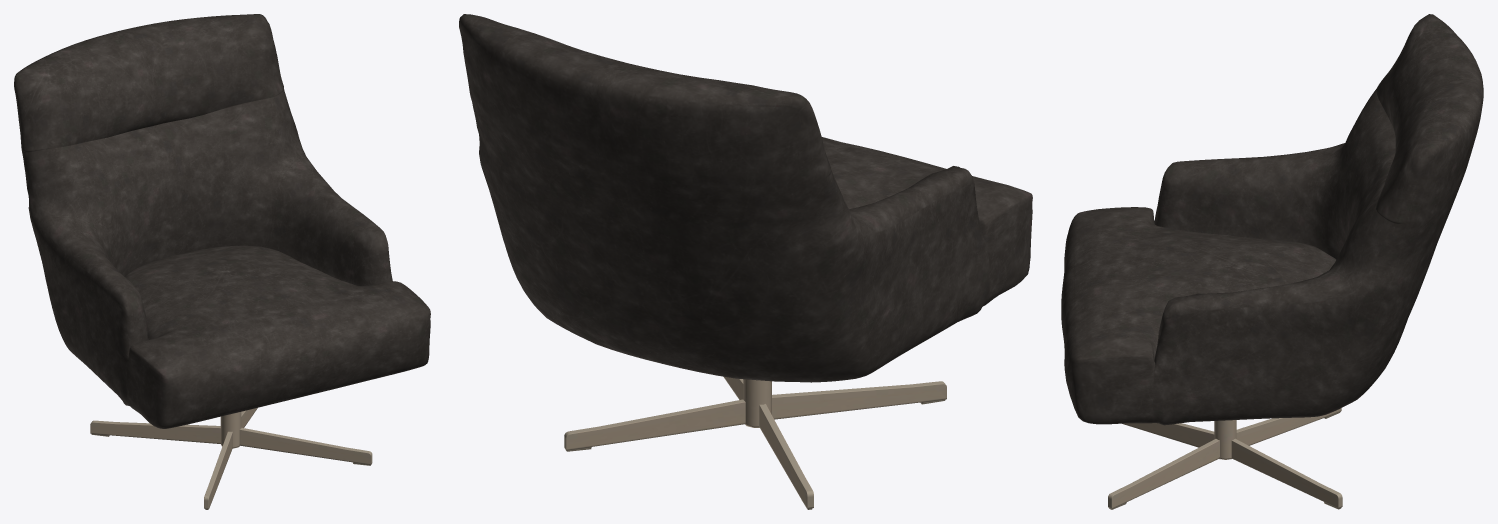
The model's file is office_chair_B075X4PTQV.glb.
The picture shows the model from 3 angles, left to right: view 1: azimuth 30°, elevation 25°; view 2: azimuth 150°, elevation 25°; view 3: azimuth 270°, elevation 25°; orthographic projection. The views are drawn at different scales.
Parts seen in each view (by area): view 1: RootNode; view 2: RootNode; view 3: RootNode.
Part boxes in pixels (box(x1,y1,x2,y2)): RootNode: box(14, 14, 430, 509); RootNode: box(459, 14, 1032, 509); RootNode: box(1061, 14, 1483, 509).
Size of the model in its own units: 0.7379 by 0.8695 by 0.8745.
Materials: 1 (1 with a texture image).
